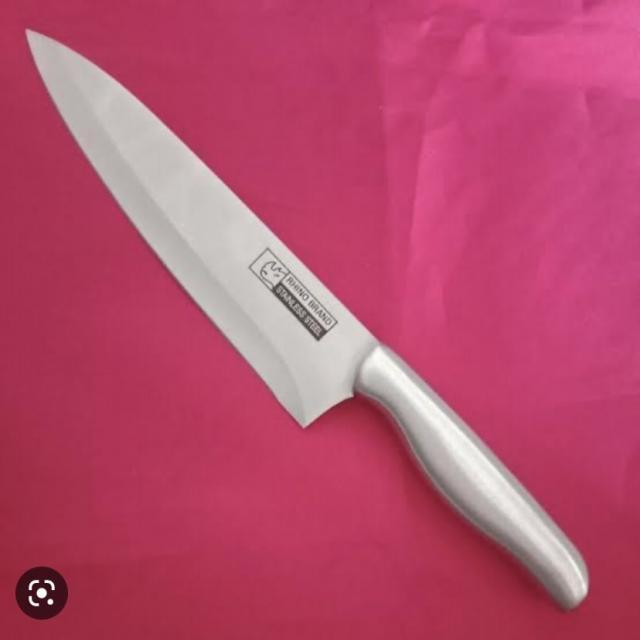Knife: (22, 21, 596, 614)
